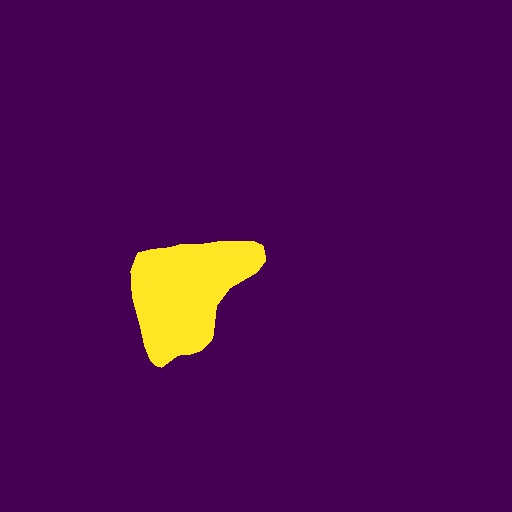Gliomia_tumour: (130, 241, 266, 368)
